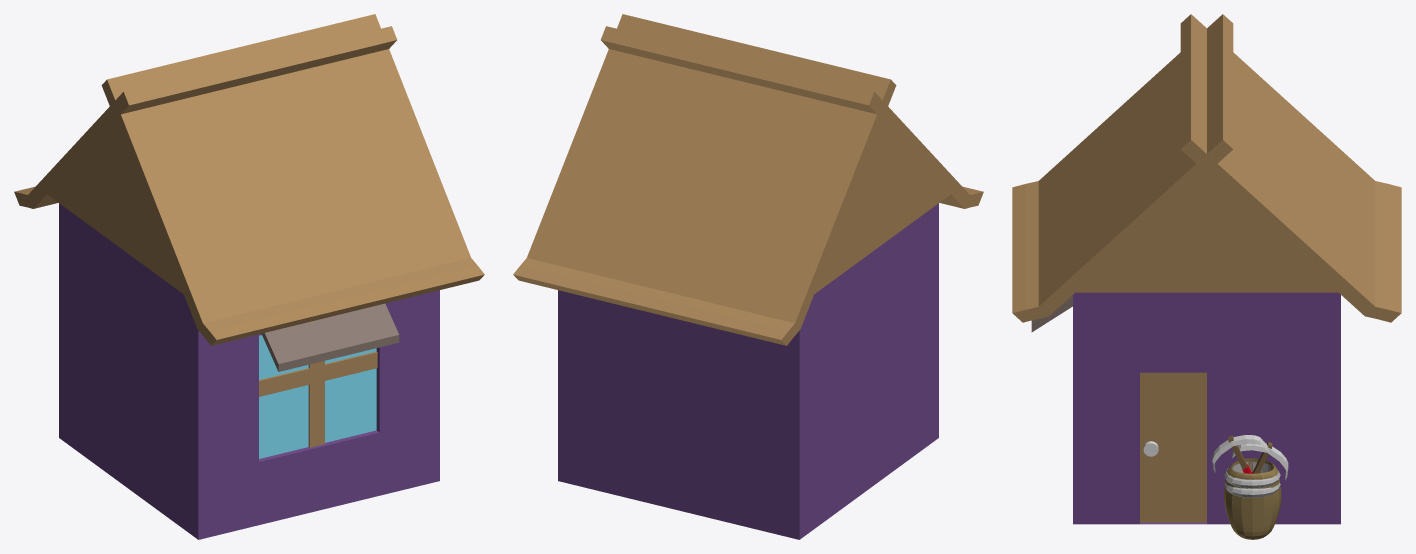
The model's file is casa vila roxa.fbx.
3 renders of one model, left to right at view 1: azimuth 30°, elevation 25°; view 2: azimuth 150°, elevation 25°; view 3: azimuth 270°, elevation 25°, orthographic. The views are drawn at different scales.
Parts seen in each view (by area): view 1: Cube.001, Cube, Cube.002, Cube.005, Cube.003; view 2: Cube.001, Cube; view 3: Cube.001, Cube, Cube.004, Cube.007, Cube.006, Cube.008.
Boxes of the visible parts, <box> form: Cube.001: <box>14,14,484,345</box>; Cube: <box>59,203,439,539</box>; Cube.002: <box>259,335,376,458</box>; Cube.005: <box>261,303,399,371</box>; Cube.003: <box>259,351,377,447</box>; Cube.001: <box>513,14,983,345</box>; Cube: <box>558,203,938,539</box>; Cube.001: <box>1012,14,1401,322</box>; Cube: <box>1073,292,1340,524</box>; Cube.004: <box>1140,372,1206,522</box>; Cube.007: <box>1224,458,1281,539</box>; Cube.006: <box>1212,435,1268,473</box>; Cube.008: <box>1231,442,1288,479</box>.
Bounding box in the file's own units: 219 × 293 × 262.
